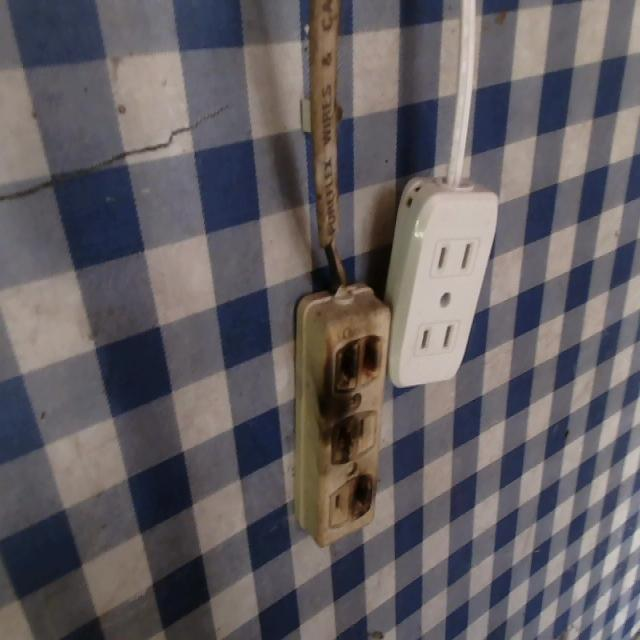-: (323, 321, 385, 399), (326, 406, 363, 474), (350, 469, 380, 519)
